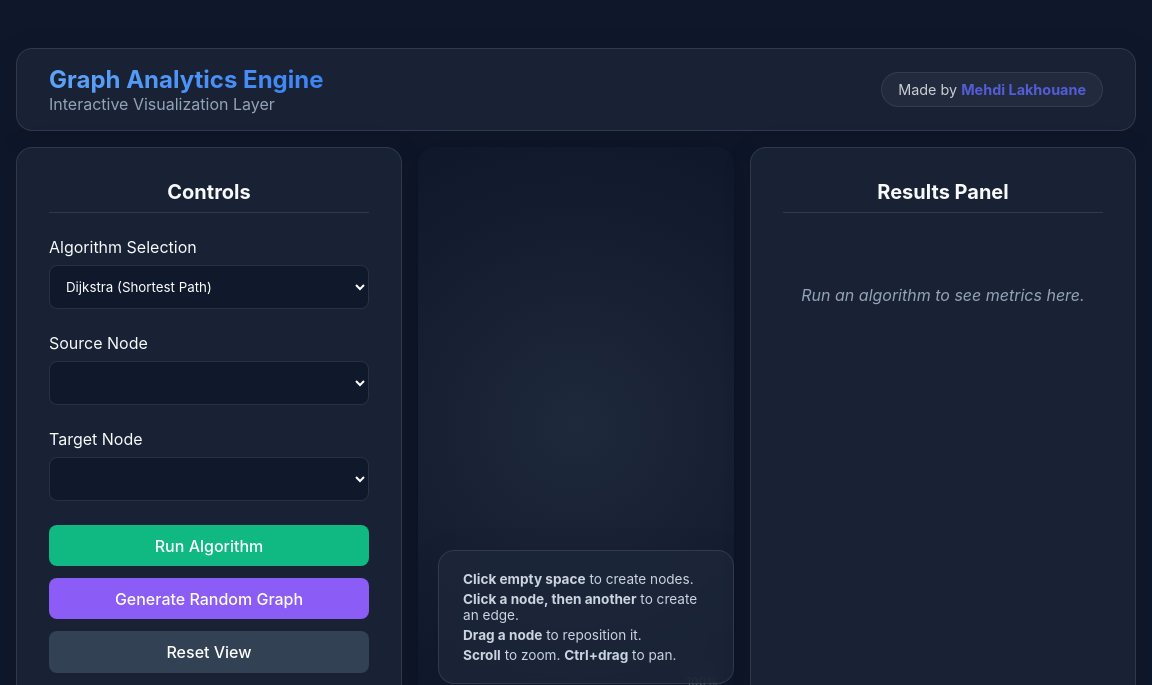
Test case: App.vue › hides source/target for PageRank
Select "PageRank" in the dropdown below "Algorithm Selection" at (209, 287), box [49, 265, 369, 309]
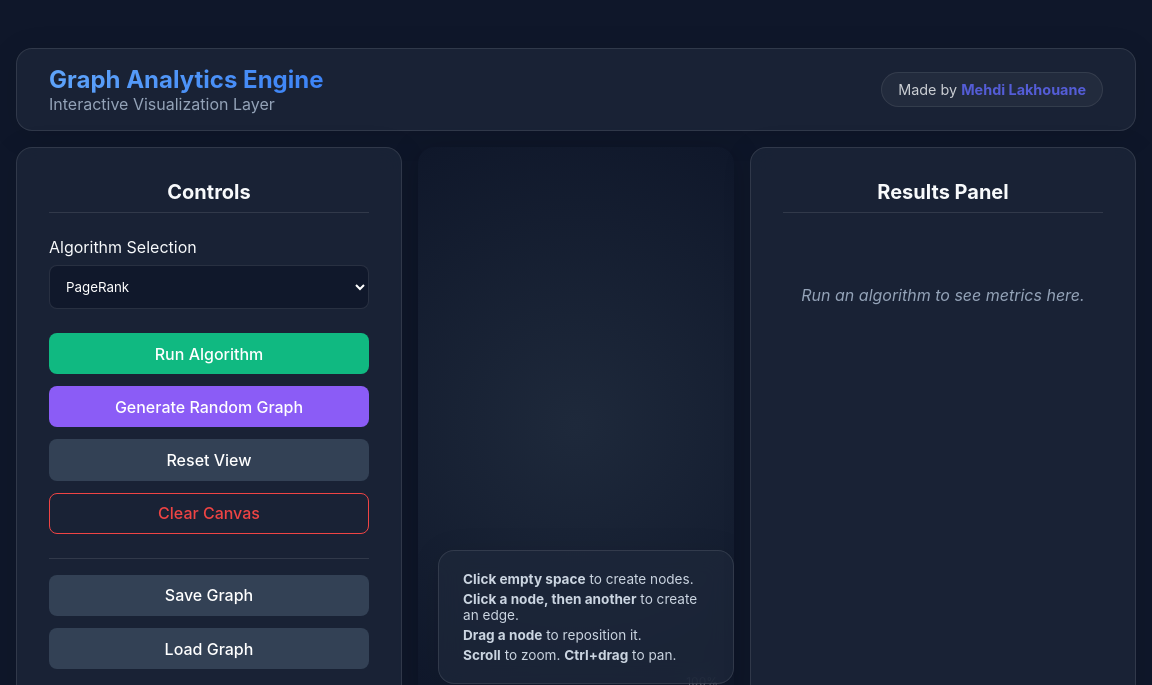
Result: the label no longer shows "Source Node"
Result: the label no longer shows "Target Node"
